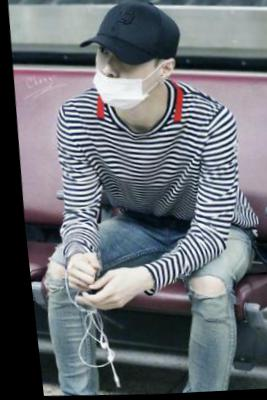WRONG: (89, 43, 147, 112)
